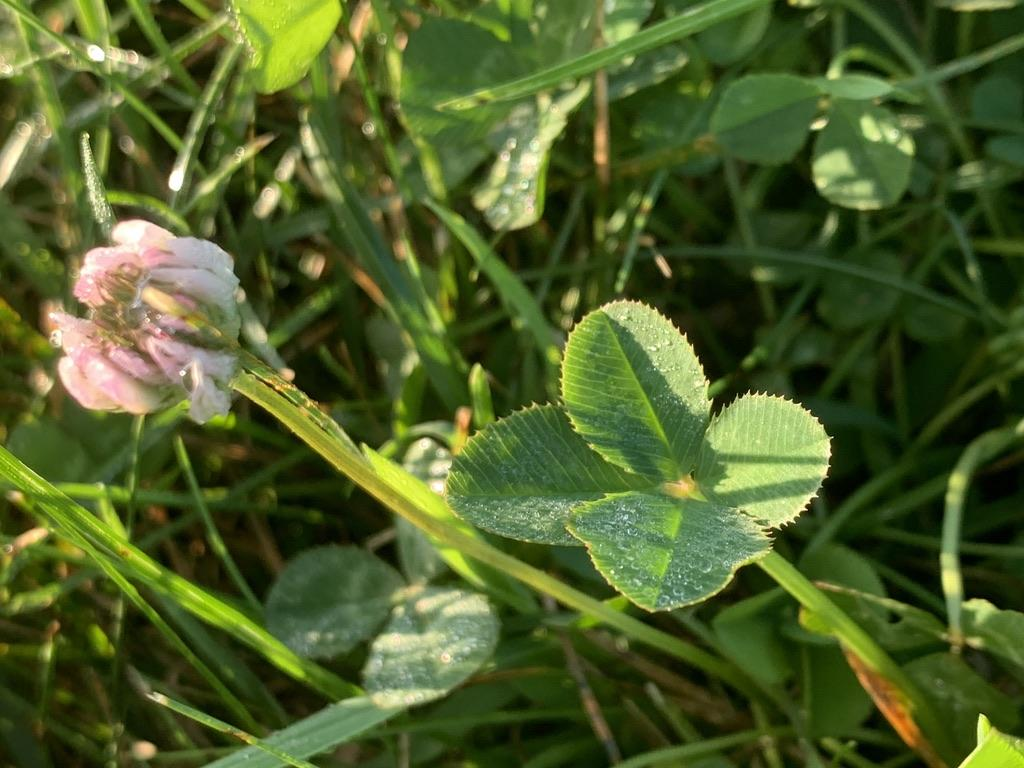4-Leaf-Clovers: (406, 142, 808, 427)
